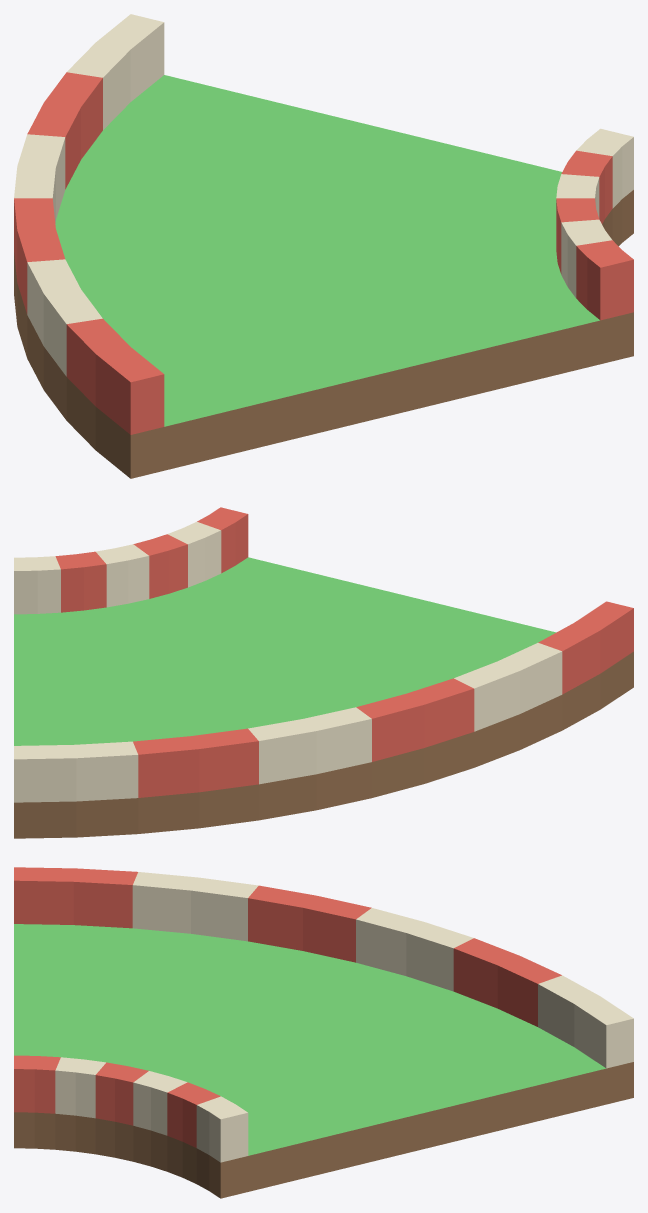
Rendered from carnival_turn_60deg_rounded.glb.
3 renders of one model, top to bottom at view 1: azimuth 30°, elevation 25°; view 2: azimuth 150°, elevation 25°; view 3: azimuth 270°, elevation 25°, orthographic. The views are drawn at different scales.
Visible parts, largest first — view 1: Mesh_Floor.007, Mesh_Wall_L.009, Mesh_Wall_R.009; view 2: Mesh_Floor.007, Mesh_Wall_L.009, Mesh_Wall_R.009; view 3: Mesh_Floor.007, Mesh_Wall_L.009, Mesh_Wall_R.009.
Boxes of the visible parts, bbox=[...] form: Mesh_Floor.007: bbox=[14, 75, 633, 478]; Mesh_Wall_L.009: bbox=[14, 14, 164, 434]; Mesh_Wall_R.009: bbox=[556, 128, 633, 320]; Mesh_Floor.007: bbox=[14, 557, 633, 838]; Mesh_Wall_L.009: bbox=[14, 601, 633, 802]; Mesh_Wall_R.009: bbox=[14, 507, 248, 614]; Mesh_Floor.007: bbox=[14, 924, 633, 1198]; Mesh_Wall_L.009: bbox=[14, 867, 633, 1068]; Mesh_Wall_R.009: bbox=[14, 1055, 248, 1162].
Size of what is drawn, in the model's own units: 7.5 by 1.1 by 7.79.
